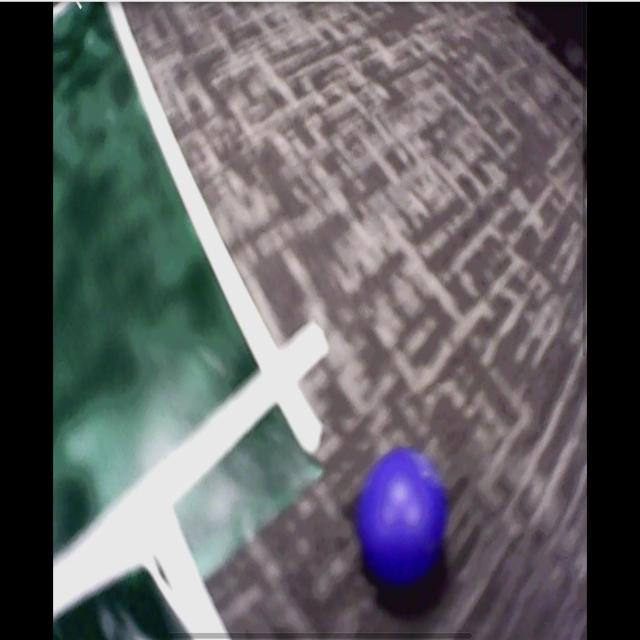ball: (361, 448, 444, 592)
